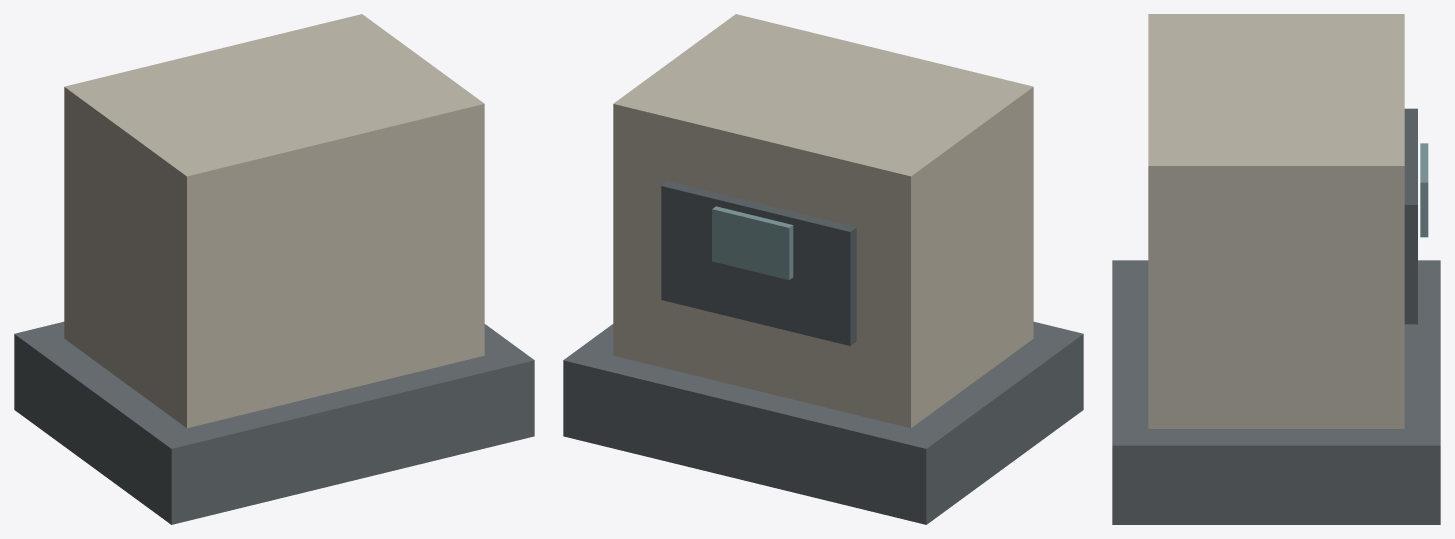
File: iz3_production_concrete_01.glb
The picture shows the model from 3 angles, left to right: view 1: azimuth 30°, elevation 25°; view 2: azimuth 150°, elevation 25°; view 3: azimuth 270°, elevation 25°; orthographic projection. The views are drawn at different scales.
Visible parts, largest first — view 1: cabinet, base; view 2: cabinet, base, panel, display; view 3: cabinet, base, panel, display.
Part boxes in pixels (x1,y1,x2,y2): cabinet: [64, 14, 484, 428]; base: [14, 321, 534, 524]; cabinet: [613, 14, 1033, 428]; base: [563, 321, 1083, 524]; panel: [661, 181, 856, 345]; display: [712, 206, 793, 279]; cabinet: [1148, 14, 1404, 428]; base: [1112, 260, 1440, 524]; panel: [1404, 108, 1417, 324]; display: [1420, 143, 1428, 237].
Bounding box in the file's own units: 1.6 × 1.38 × 1.2.
